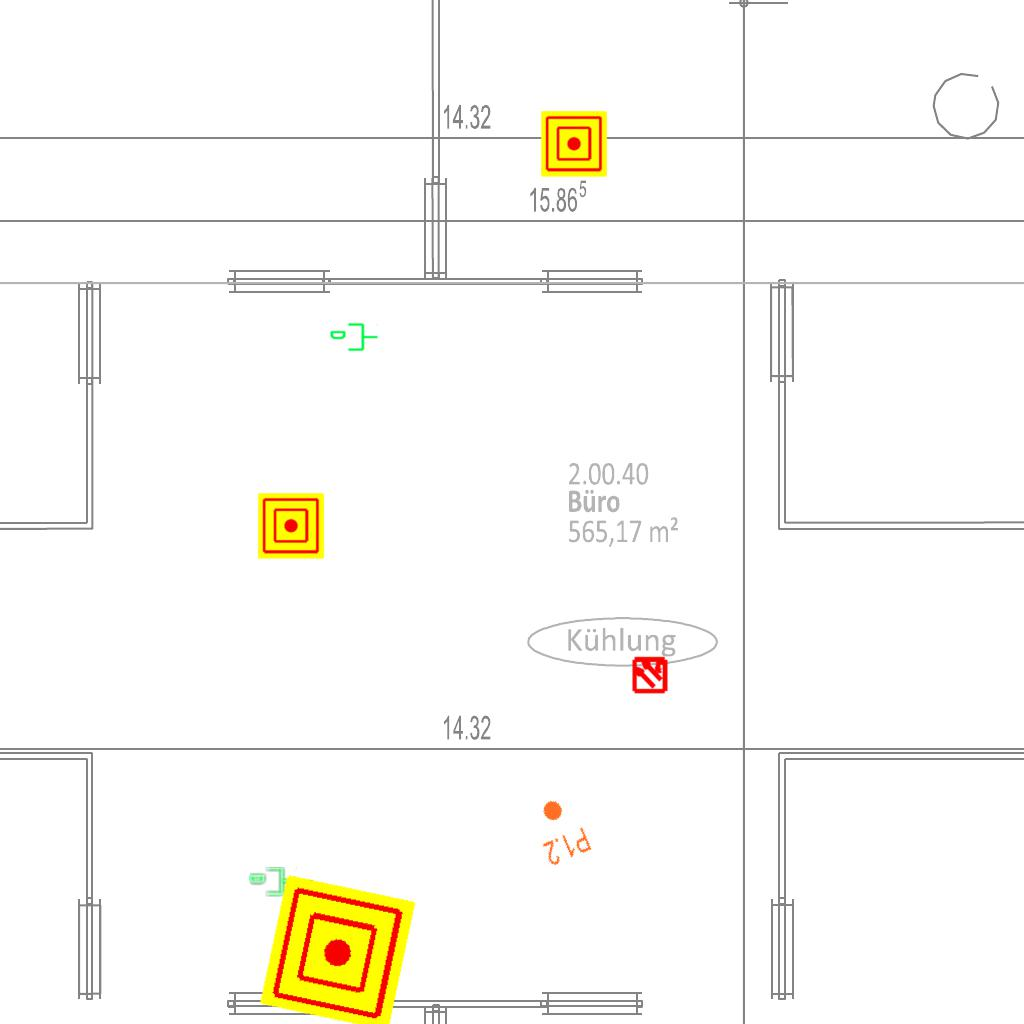Datenanschluss_einfach: (329, 321, 379, 355), (248, 865, 298, 899)
Downlight_LED_Einbauleuchten_Flur: (526, 791, 594, 869)
NAM-Nichtautomatischer_Melder: (259, 874, 417, 1024), (258, 493, 324, 559), (541, 111, 607, 177)
OT_Multisensormelder_(Kombination_RMO_WMD): (622, 646, 678, 702), (325, 886, 381, 942)
